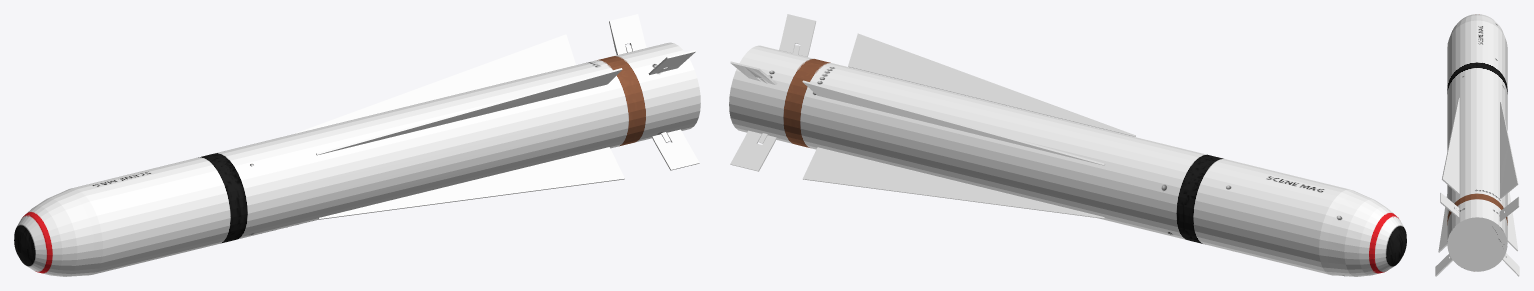
Rendered from Missile AGM-65.obj.
3 renders of one model, left to right at view 1: azimuth 30°, elevation 25°; view 2: azimuth 150°, elevation 25°; view 3: azimuth 270°, elevation 25°, orthographic. The views are drawn at different scales.
Visible parts, largest first — view 1: Object.14, Object.10, Object.7, Object.1, Object.11, Object.8, Object.2; view 2: Object.14, Object.4, Object.1, Object.7, Object.5, Object.2, Object.8; view 3: Object.14, Object.13, Object.7, Object.1, Object.4, Object.10, Object.8, Object.2, Object.5, Object.11.
Part boxes in pixels (left/top/right/bottom): Object.14: left=14, top=42, right=700, bottom=276; Object.10: left=318, top=147, right=624, bottom=219; Object.7: left=293, top=34, right=575, bottom=134; Object.1: left=316, top=68, right=622, bottom=155; Object.11: left=652, top=129, right=699, bottom=170; Object.8: left=609, top=14, right=646, bottom=55; Object.2: left=648, top=50, right=695, bottom=74; Object.14: left=729, top=45, right=1406, bottom=276; Object.4: left=802, top=147, right=1104, bottom=218; Object.1: left=848, top=33, right=1135, bottom=136; Object.7: left=802, top=80, right=1105, bottom=165; Object.5: left=730, top=130, right=776, bottom=171; Object.2: left=779, top=14, right=816, bottom=56; Object.8: left=730, top=61, right=777, bottom=84; Object.14: left=1447, top=14, right=1507, bottom=271; Object.13: left=1450, top=220, right=1504, bottom=268; Object.7: left=1500, top=102, right=1518, bottom=198; Object.1: left=1442, top=98, right=1459, bottom=194; Object.4: left=1507, top=192, right=1518, bottom=251; Object.10: left=1438, top=194, right=1447, bottom=252; Object.8: left=1499, top=197, right=1519, bottom=221; Object.2: left=1440, top=193, right=1459, bottom=217; Object.5: left=1502, top=253, right=1519, bottom=276; Object.11: left=1435, top=254, right=1452, bottom=276.
Bounding box in the file's own units: 25.4 × 4.09 × 4.16.
1 material, 1 textured.
